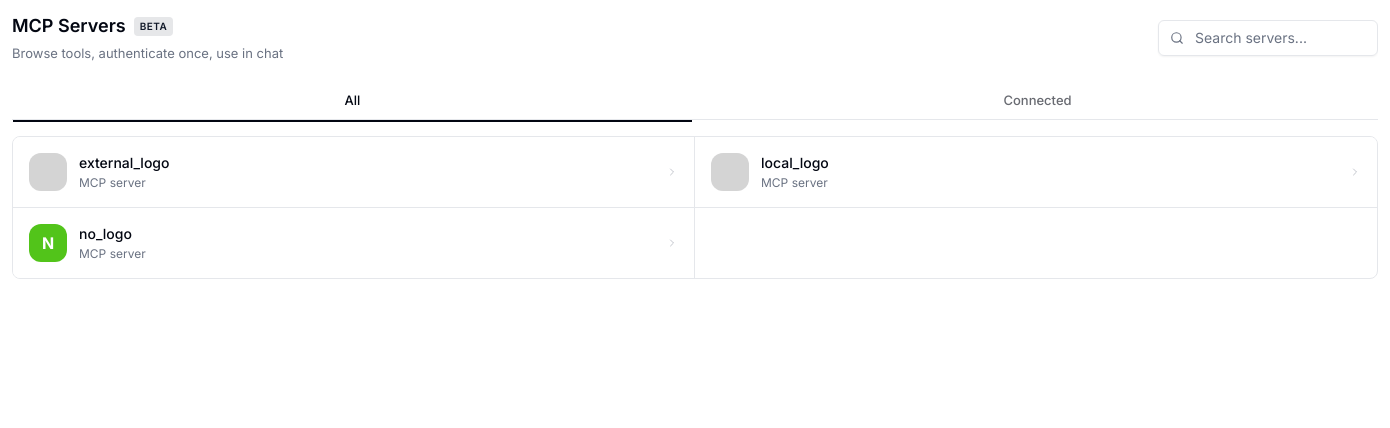
MCPAppsPanel logos › resolves the logo_url in the detail header
The width and height of the screenshot is (1390, 428).
Click the text "local_logo": (795, 162) [761,154,829,170]
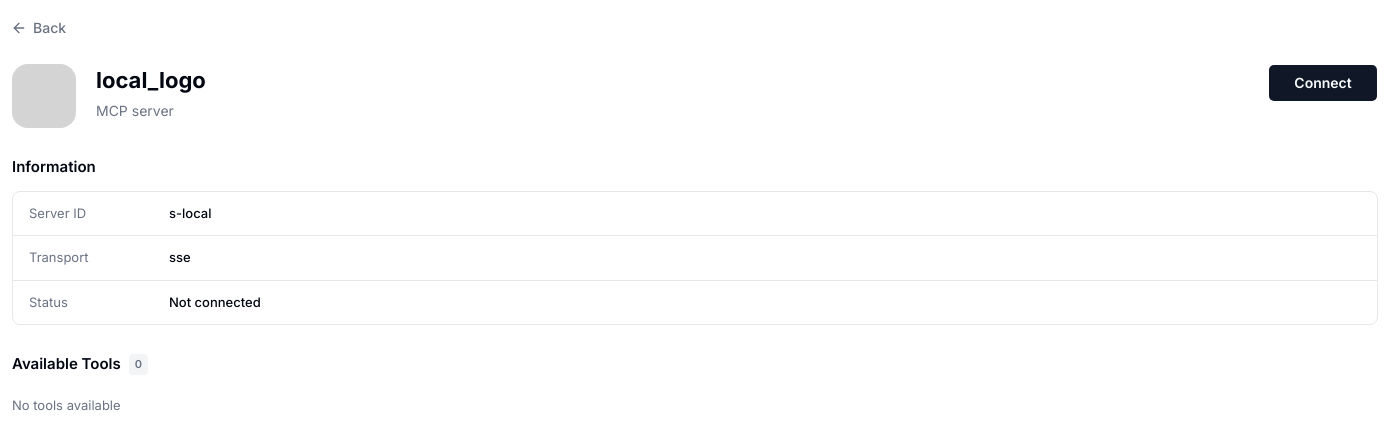
Expected: the heading "local_logo" is shown, [96,67,206,93]
